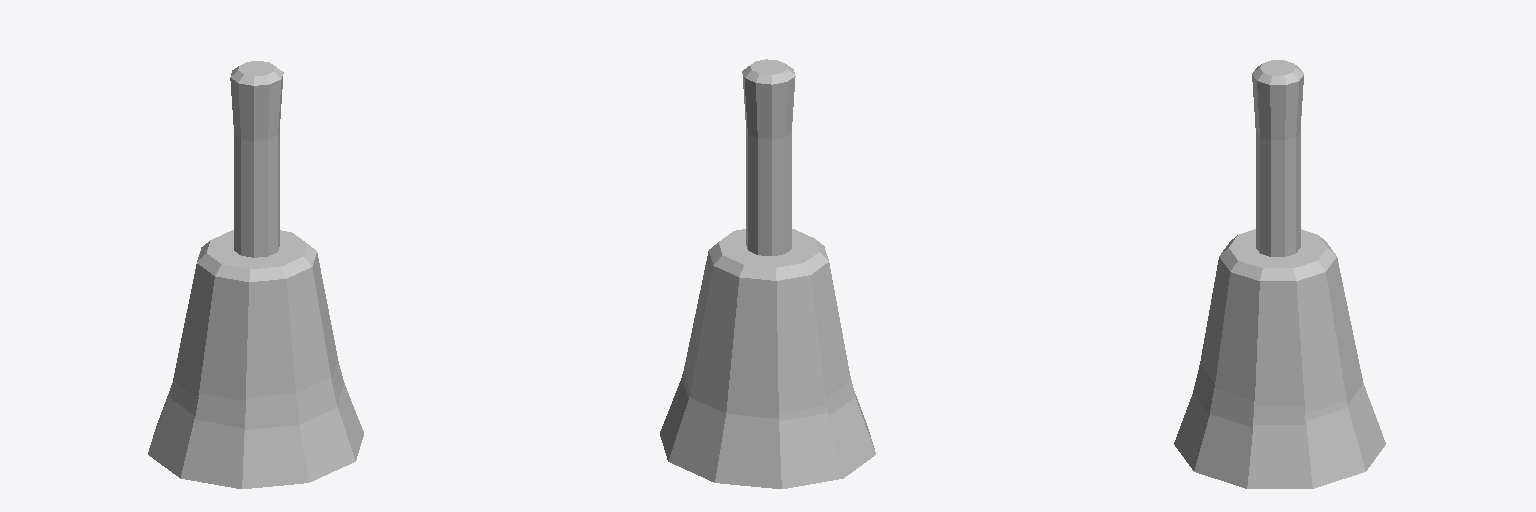
File: bell01.obj
3 renders of one model, left to right at view 1: azimuth 30°, elevation 25°; view 2: azimuth 150°, elevation 25°; view 3: azimuth 270°, elevation 25°, orthographic.
Parts seen in each view (by area): view 1: Cylinder_Cylinder.001; view 2: Cylinder_Cylinder.001; view 3: Cylinder_Cylinder.001.
Boxes of the visible parts, <box> form: Cylinder_Cylinder.001: <box>148,61,363,488</box>; Cylinder_Cylinder.001: <box>660,59,875,488</box>; Cylinder_Cylinder.001: <box>1174,60,1385,488</box>.
Bounding box in the file's own units: 0.0758 × 0.1481 × 0.0758.